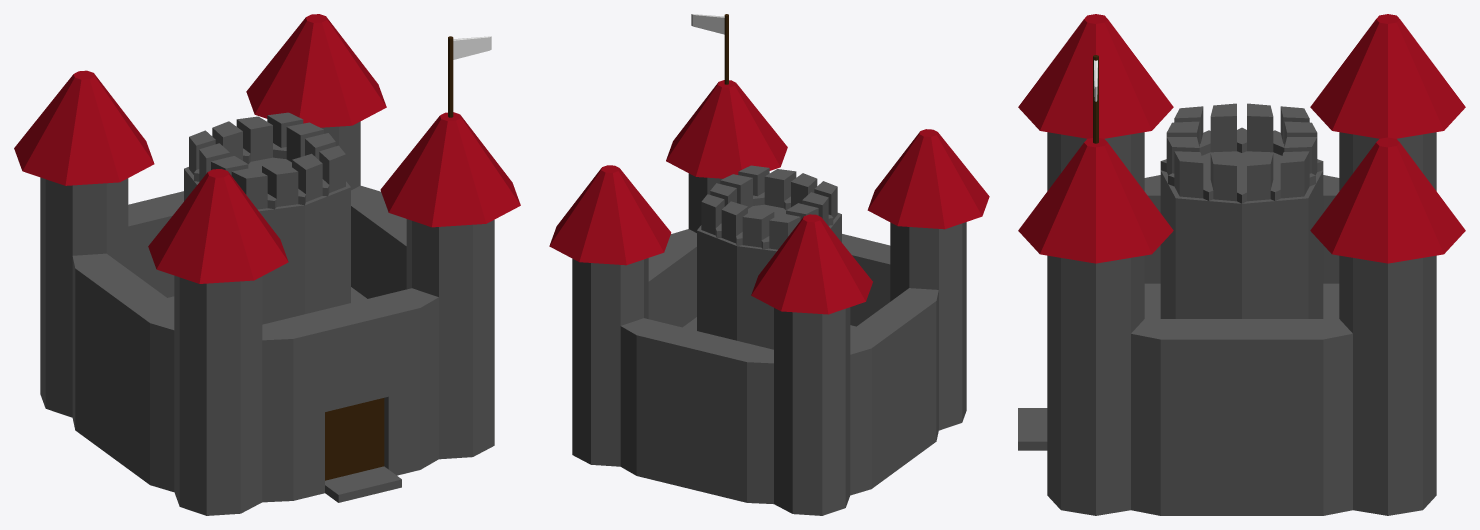
The model's file is castle.fbx.
3 renders of one model, left to right at view 1: azimuth 30°, elevation 25°; view 2: azimuth 150°, elevation 25°; view 3: azimuth 270°, elevation 25°, orthographic. The views are drawn at different scales.
Visible parts, largest first — view 1: Cube; view 2: Cube; view 3: Cube.
Boxes of the visible parts, x1=… form: Cube: x1=14, y1=14, x2=520, y2=515; Cube: x1=549, y1=14, x2=989, y2=515; Cube: x1=1018, y1=14, x2=1465, y2=515.
Bounding box in the file's own units: 460 × 498 × 460.
